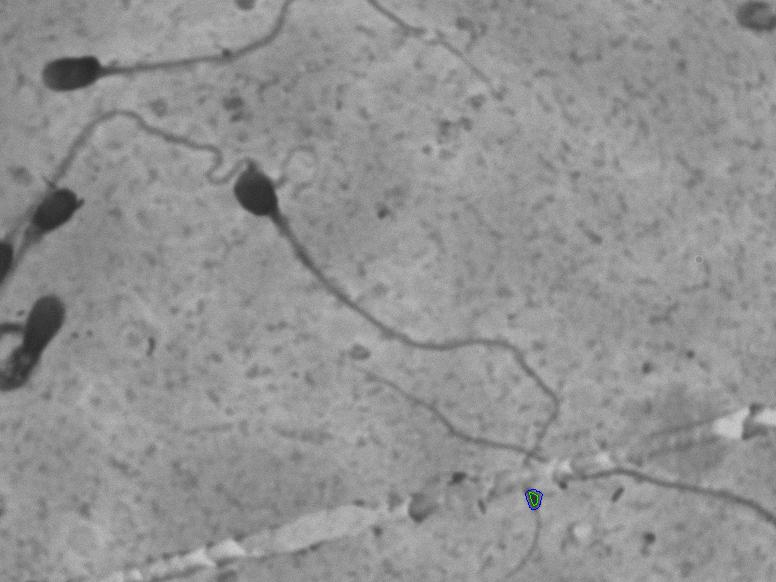Abnormal: (210, 162, 569, 454)
